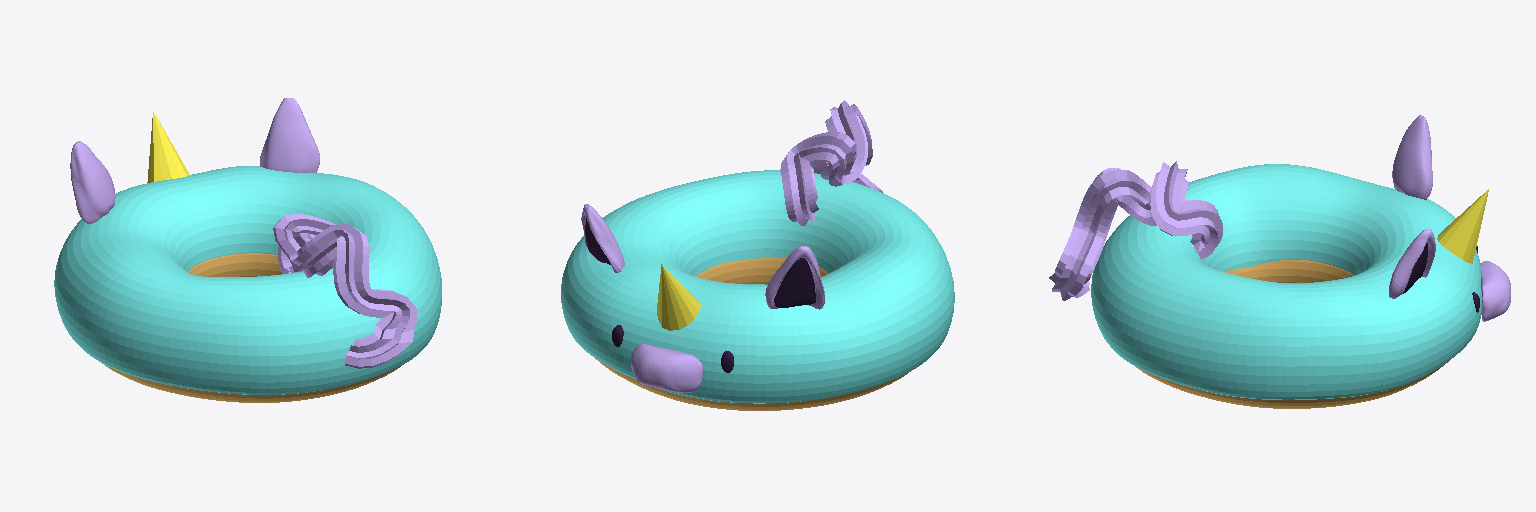
3 views of the same model, side by side, from view 1: azimuth 30°, elevation 25°; view 2: azimuth 150°, elevation 25°; view 3: azimuth 270°, elevation 25° (orthographic).
Visible parts, largest first — view 1: Unicorn_Icing_Base_Plain_Torus.027, Unicorn_Mane_Rear_Mesh_BezierCurve.001, Donut_Base.004_Torus.028, Unicorn_Ear_Left_Outer_Sphere.016, Unicorn_Ear_Right_Outer_Sphere.037, Unicorn_Horn_Cone.001; view 2: Unicorn_Icing_Base_Plain_Torus.027, Unicorn_Mane_Rear_Mesh_BezierCurve.001, Donut_Base.004_Torus.028, Unicorn_Nose_Torus.024, Unicorn_Horn_Cone.001, Unicorn_Ear_Right_Inner_Sphere.038, Unicorn_Ear_Right_Outer_Sphere.037, Unicorn_Ear_Left_Outer_Sphere.016; view 3: Unicorn_Icing_Base_Plain_Torus.027, Unicorn_Mane_Rear_Mesh_BezierCurve.001, Donut_Base.004_Torus.028, Unicorn_Ear_Right_Outer_Sphere.037, Unicorn_Horn_Cone.001, Unicorn_Nose_Torus.024, Unicorn_Ear_Left_Outer_Sphere.016.
Part boxes in pixels (bbox=[...]): Unicorn_Icing_Base_Plain_Torus.027: bbox=[54, 166, 441, 394]; Unicorn_Mane_Rear_Mesh_BezierCurve.001: bbox=[273, 214, 417, 368]; Donut_Base.004_Torus.028: bbox=[102, 253, 400, 402]; Unicorn_Ear_Left_Outer_Sphere.016: bbox=[260, 98, 319, 172]; Unicorn_Ear_Right_Outer_Sphere.037: bbox=[70, 141, 114, 223]; Unicorn_Horn_Cone.001: bbox=[147, 111, 189, 182]; Unicorn_Icing_Base_Plain_Torus.027: bbox=[561, 170, 954, 403]; Unicorn_Mane_Rear_Mesh_BezierCurve.001: bbox=[780, 100, 882, 225]; Donut_Base.004_Torus.028: bbox=[595, 258, 907, 410]; Unicorn_Nose_Torus.024: bbox=[631, 344, 702, 392]; Unicorn_Horn_Cone.001: bbox=[657, 264, 701, 330]; Unicorn_Ear_Right_Inner_Sphere.038: bbox=[774, 258, 815, 307]; Unicorn_Ear_Right_Outer_Sphere.037: bbox=[765, 246, 824, 309]; Unicorn_Ear_Left_Outer_Sphere.016: bbox=[581, 204, 624, 272]; Unicorn_Icing_Base_Plain_Torus.027: bbox=[1091, 164, 1481, 399]; Unicorn_Mane_Rear_Mesh_BezierCurve.001: bbox=[1049, 161, 1222, 300]; Donut_Base.004_Torus.028: bbox=[1136, 260, 1448, 408]; Unicorn_Ear_Right_Outer_Sphere.037: bbox=[1392, 115, 1432, 199]; Unicorn_Horn_Cone.001: bbox=[1437, 189, 1488, 263]; Unicorn_Nose_Torus.024: bbox=[1480, 261, 1510, 321]; Unicorn_Ear_Left_Outer_Sphere.016: bbox=[1389, 229, 1435, 298].
Size of the model in its own units: 1.15 by 0.5844 by 1.35.
Materials: 5 (5 with a texture image).